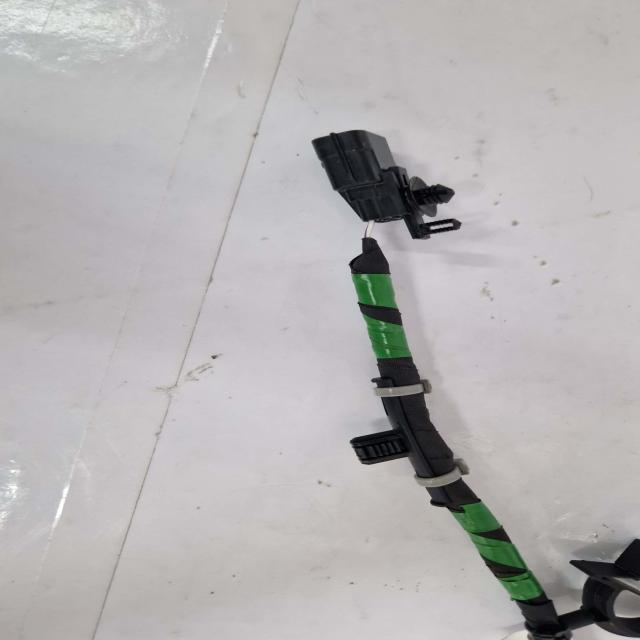AJ20_D6_Cable: (349, 238, 571, 640)
Clip: (560, 539, 640, 638)
Connector: (313, 130, 460, 239)
strap: (414, 459, 469, 488), (374, 380, 431, 398)
